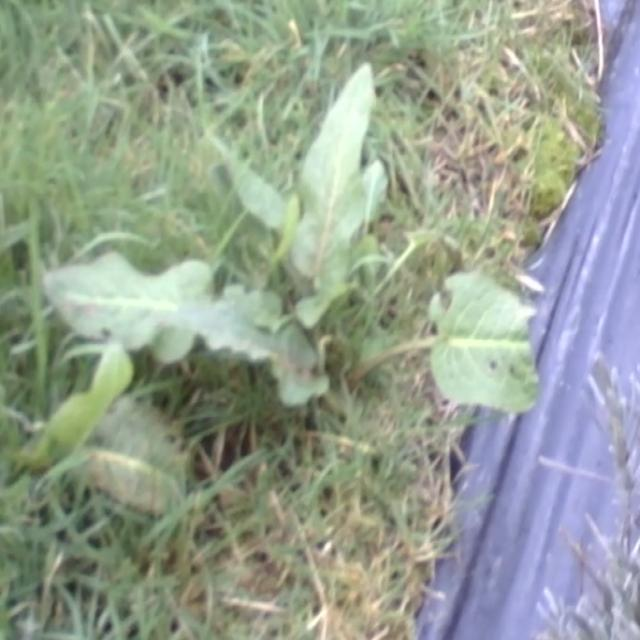organic waste: (21, 74, 543, 510), (0, 315, 222, 517)
